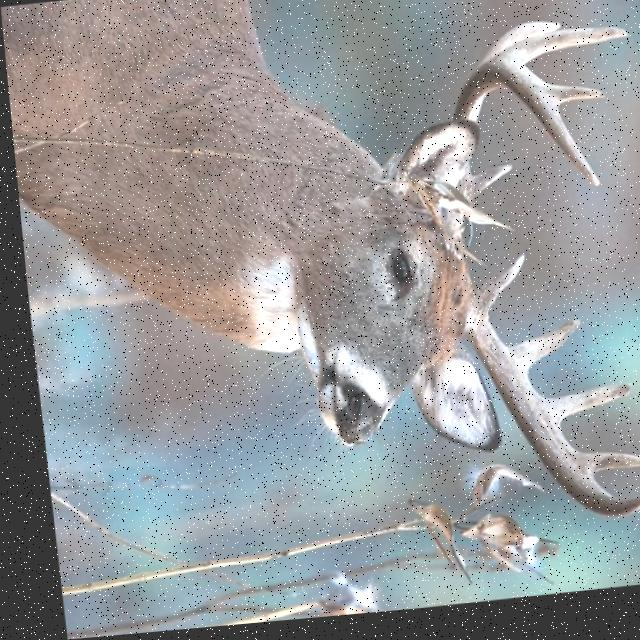L-G1: (464, 172, 507, 206)
L-G2: (498, 36, 628, 74)
R-F: (454, 302, 638, 528)
R-G1: (468, 263, 518, 319)
R-G2: (500, 328, 573, 380)
R-G3: (534, 393, 623, 432)
R-G4: (569, 461, 640, 484)
